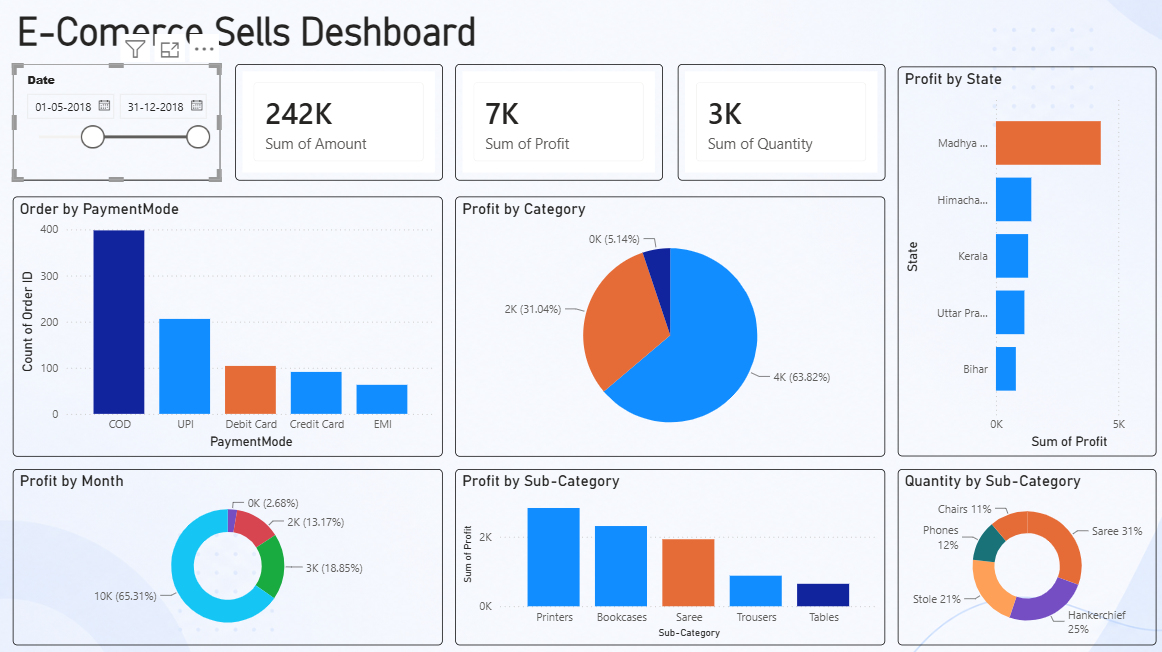

This screenshot's page, from the dashboard's own definition file:
{"tool":"powerbi","page":{"name":"Page 1","canvas":[1280,720],"ordinal":0},"visuals":[{"type":"slicer","fields":{"Values":["Orders (1).Order Date"]},"box":[15.1,71.4,227.8,127.6],"z":0},{"type":"textbox","box":[15.1,6,535.2,59],"z":1},{"type":"clusteredColumnChart","title":"Order by PaymentMode","fields":{"Category":["Details (3).PaymentMode"],"Y":["CountNonNull(Details (3).Order ID)"]},"box":[15.1,216.8,472,285.4],"z":2},{"type":"cardVisual","fields":{"Data":["Sum(Details (3).Amount)"]},"box":[259.3,71.4,227.8,127.6],"z":3},{"type":"cardVisual","fields":{"Data":["Sum(Details (3).Quantity)"]},"box":[745.1,71.4,227.8,127.6],"z":4},{"type":"cardVisual","fields":{"Data":["Sum(Details (3).Profit)"]},"box":[500.9,71.4,227.8,127.6],"z":5},{"type":"pieChart","title":"Profit by Category","fields":{"Y":["Sum(Details (3).Profit)"],"Category":["Details (3).Category"]},"box":[500.9,216.8,472,285.4],"z":6},{"type":"clusteredBarChart","title":"Profit by State","fields":{"Y":["Sum(Details (3).Profit)"],"Category":["Orders (1).State"]},"box":[986.6,74.1,284,428.1],"z":7},{"type":"donutChart","title":"Profit by Month","fields":{"Category":["Orders (1).Order Date.Variation.Date Hierarchy.Month"],"Y":["Sum(Details (3).Profit)"]},"box":[15.1,516,472,193.5],"z":8},{"type":"clusteredColumnChart","title":"Profit by Sub-Category","fields":{"Category":["Details (3).Sub-Category"],"Y":["Sum(Details (3).Profit)"]},"box":[500.9,516,472,193.5],"z":9},{"type":"donutChart","title":"Quantity by Sub-Category","fields":{"Category":["Details (3).Sub-Category"],"Y":["Sum(Details (3).Quantity)"]},"box":[986.6,516,284,193.5],"z":10}]}

Visuals, with their boxes in screenshot pixels (x1, y1, x2, y2), scaled from the page's 1280x720 canvas onto the 1162x652 screenshot:
slicer - Orders (1).Order Date: 14/65/221/180
textbox: 14/5/500/59
"Order by PaymentMode" clusteredColumnChart: 14/196/442/455
cardVisual - Sum(Details (3).Amount): 235/65/442/180
cardVisual - Sum(Details (3).Quantity): 676/65/883/180
cardVisual - Sum(Details (3).Profit): 455/65/662/180
"Profit by Category" pieChart: 455/196/883/455
"Profit by State" clusteredBarChart: 896/67/1153/455
"Profit by Month" donutChart: 14/467/442/642
"Profit by Sub-Category" clusteredColumnChart: 455/467/883/642
"Quantity by Sub-Category" donutChart: 896/467/1153/642
